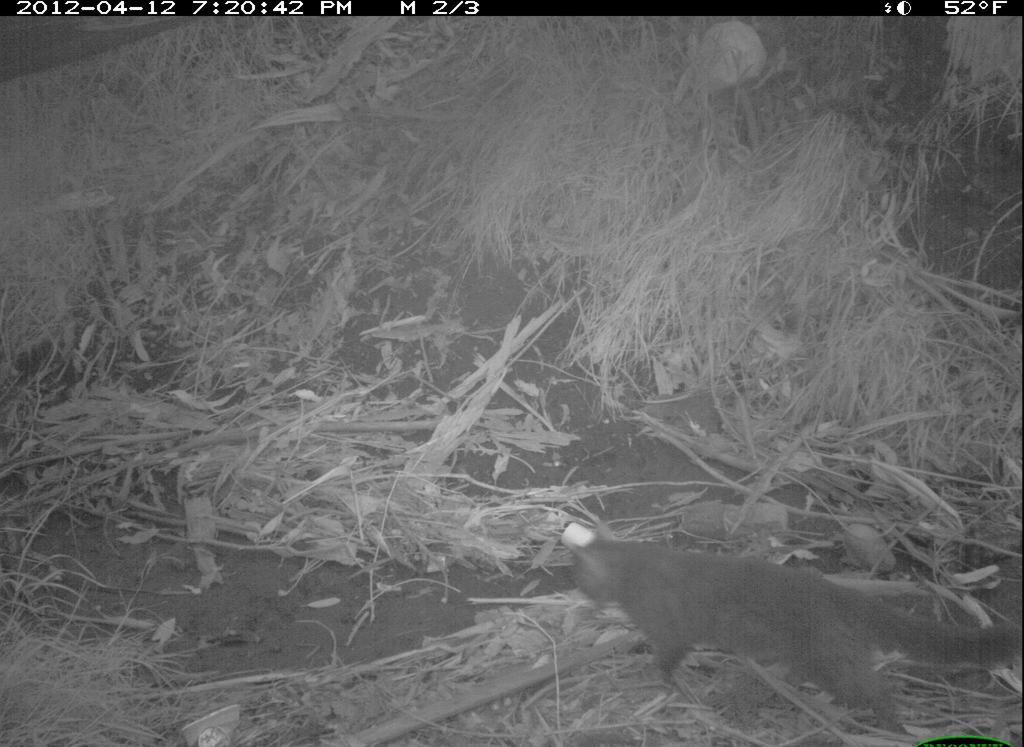cat: (561, 521, 1021, 729)
